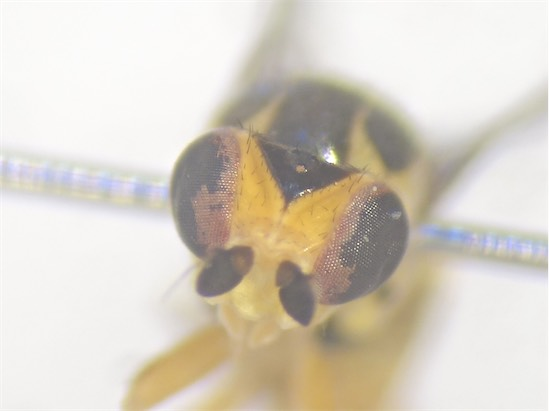Chloropidae: (63, 1, 535, 408)
